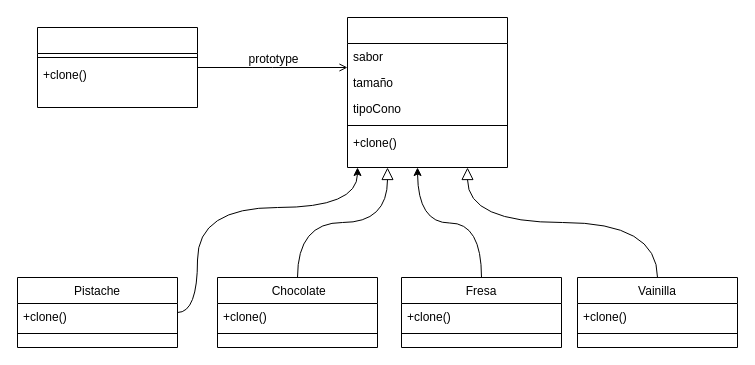
Image size: 755x365. Some labels were removed from this diagram. Here are the shapes that lost their labels. From the top down, the box of each, then its label:
(36, 26, 198, 108): Helado
(346, 16, 508, 168): TiposHelado
